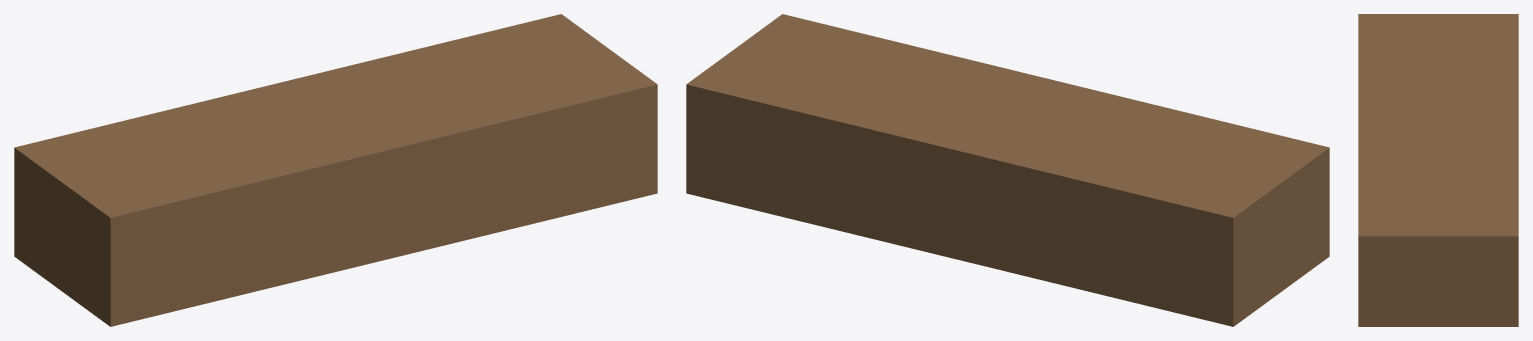
File: porch-12.glb
The picture shows the model from 3 angles, left to right: view 1: azimuth 30°, elevation 25°; view 2: azimuth 150°, elevation 25°; view 3: azimuth 270°, elevation 25°; orthographic projection. The views are drawn at different scales.
Bounding box in the file's own units: 3.28 × 0.625 × 1.
